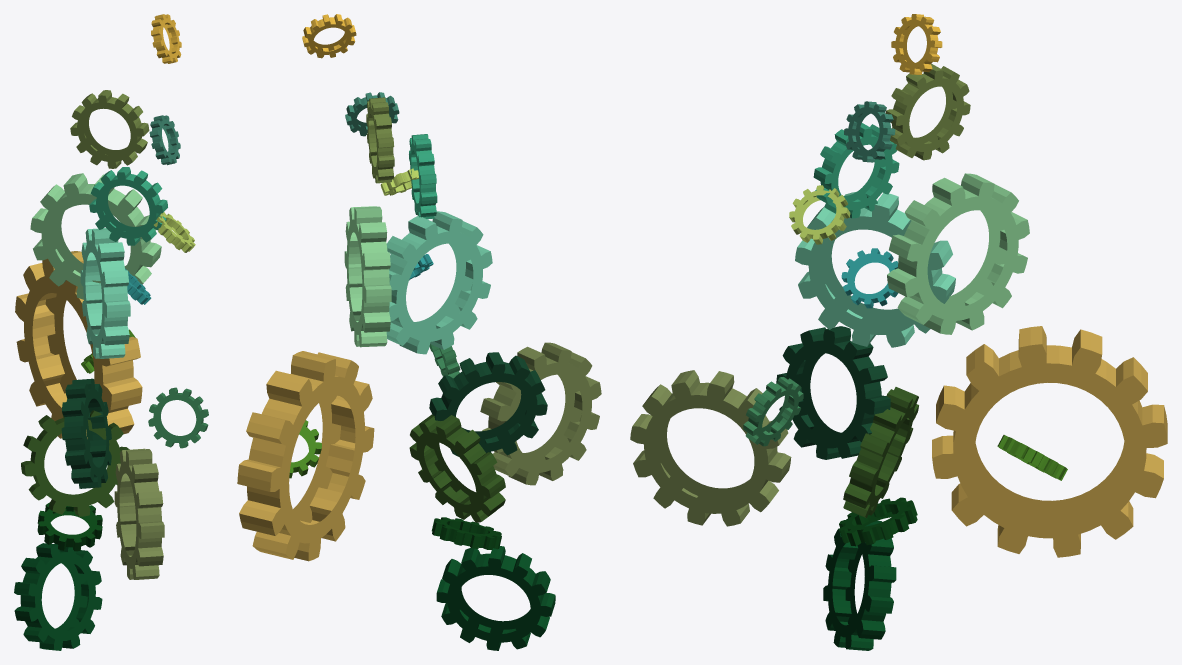
3 renders of one model, left to right at view 1: azimuth 30°, elevation 25°; view 2: azimuth 150°, elevation 25°; view 3: azimuth 270°, elevation 25°, orthographic. The views are drawn at different scales.
Parts seen in each view (by area): view 1: Gear.001, Gear.000, Gear.012, Gear.013, Gear.003, Gear.007, Gear.006, Gear.014, Gear.002, Gear.010, Gear.011, Gear.015 (+3 smaller); view 2: Gear.001, Gear.003, Gear.013, Gear.012, Gear.006, Gear.000, Gear.007, Gear.014, Gear.002, Gear.010, Gear.015, Gear.008 (+3 smaller); view 3: Gear.001, Gear.000, Gear.013, Gear.003, Gear.007, Gear.012, Gear.006, Gear.014, Gear.002, Gear.011, Gear.010, Gear.008 (+4 smaller).
Part boxes in pixels (bbox=[...]): Gear.001: bbox=[15, 251, 142, 438]; Gear.000: bbox=[30, 173, 161, 299]; Gear.012: bbox=[14, 543, 102, 650]; Gear.013: bbox=[114, 448, 164, 579]; Gear.003: bbox=[80, 228, 130, 358]; Gear.007: bbox=[61, 378, 111, 488]; Gear.006: bbox=[21, 410, 129, 516]; Gear.014: bbox=[70, 90, 149, 168]; Gear.002: bbox=[89, 167, 167, 245]; Gear.010: bbox=[37, 502, 102, 551]; Gear.011: bbox=[148, 387, 208, 448]; Gear.015: bbox=[151, 14, 181, 63]; Gear.001: bbox=[237, 351, 374, 561]; Gear.003: bbox=[386, 211, 492, 354]; Gear.013: bbox=[480, 342, 601, 485]; Gear.012: bbox=[436, 546, 555, 650]; Gear.006: bbox=[409, 414, 505, 522]; Gear.000: bbox=[344, 206, 391, 347]; Gear.007: bbox=[429, 352, 547, 456]; Gear.014: bbox=[366, 97, 394, 183]; Gear.002: bbox=[409, 134, 437, 219]; Gear.010: bbox=[431, 517, 501, 549]; Gear.015: bbox=[302, 14, 356, 58]; Gear.008: bbox=[345, 92, 399, 136]; Gear.001: bbox=[932, 326, 1167, 557]; Gear.000: bbox=[887, 173, 1029, 334]; Gear.013: bbox=[630, 370, 791, 526]; Gear.003: bbox=[795, 192, 955, 347]; Gear.007: bbox=[776, 326, 890, 459]; Gear.012: bbox=[823, 518, 896, 650]; Gear.006: bbox=[843, 387, 918, 517]; Gear.014: bbox=[885, 64, 970, 160]; Gear.002: bbox=[813, 123, 899, 218]; Gear.011: bbox=[743, 377, 803, 446]; Gear.010: bbox=[839, 497, 917, 546]; Gear.008: bbox=[844, 101, 895, 162].
Bounding box in the file's own units: 260 × 725 × 501.
